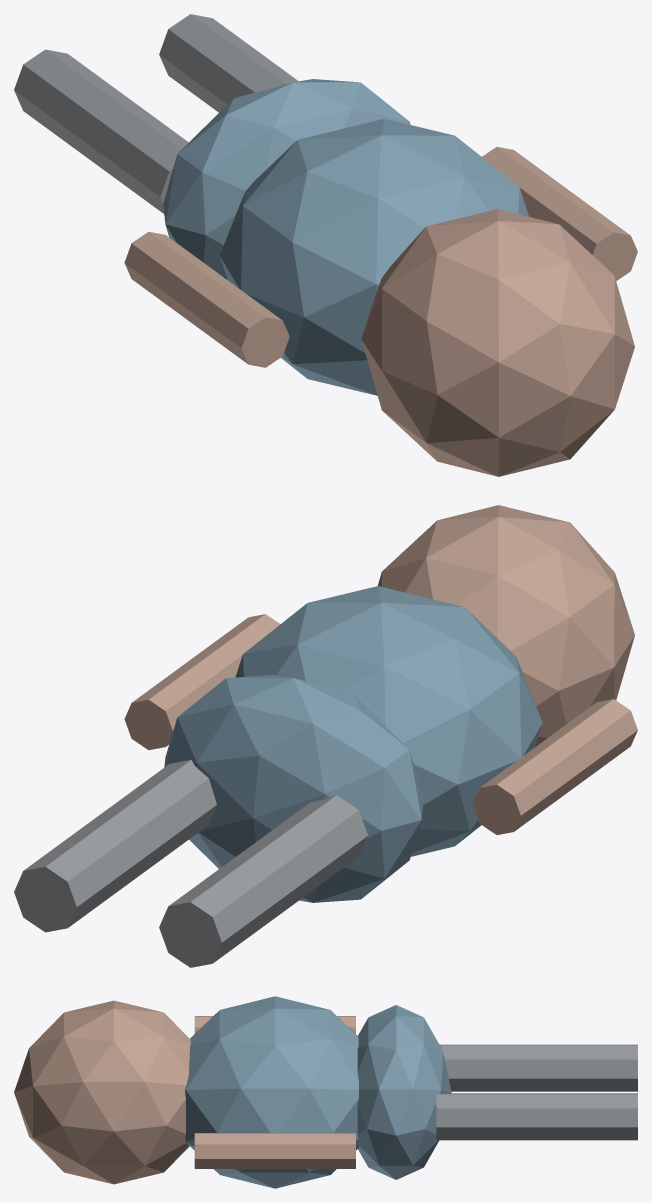
File: newborn-low.glb
3 renders of one model, top to bottom at view 1: azimuth 30°, elevation 25°; view 2: azimuth 150°, elevation 25°; view 3: azimuth 270°, elevation 25°, orthographic. The views are drawn at different scales.
Parts seen in each view (by area): view 1: head, torso, pelvis, left_leg, left_arm, right_leg, right_arm; view 2: torso, pelvis, head, left_leg, right_leg, left_arm, right_arm; view 3: head, torso, pelvis, right_leg, left_leg, right_arm, left_arm.
Boxes of the visible parts, left/top/right/bottom form: head: left=361, top=209, right=634, bottom=476; torso: left=219, top=118, right=528, bottom=395; pelvis: left=163, top=79, right=410, bottom=279; left_leg: left=14, top=49, right=188, bottom=213; left_arm: left=124, top=231, right=289, bottom=367; right_leg: left=159, top=14, right=298, bottom=112; right_arm: left=482, top=147, right=637, bottom=280; torso: left=235, top=586, right=542, bottom=856; pelvis: left=164, top=675, right=423, bottom=902; head: left=378, top=505, right=634, bottom=746; left_leg: left=159, top=795, right=367, bottom=967; right_leg: left=14, top=759, right=216, bottom=932; left_arm: left=472, top=699, right=637, bottom=834; right_arm: left=124, top=614, right=280, bottom=750; head: left=14, top=1000, right=190, bottom=1184; torso: left=185, top=996, right=358, bottom=1188; pelvis: left=357, top=1005, right=451, bottom=1179; right_leg: left=436, top=1093, right=637, bottom=1140; left_leg: left=440, top=1044, right=637, bottom=1091; right_arm: left=194, top=1133, right=355, bottom=1168; left_arm: left=194, top=1016, right=355, bottom=1033.
Size of the model in its own units: 0.6888 by 0.4048 by 1.36.
